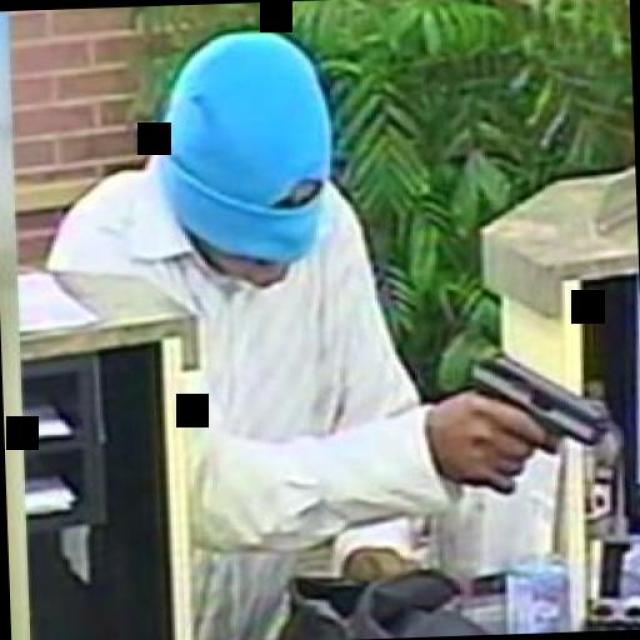gun: (454, 341, 615, 494)
